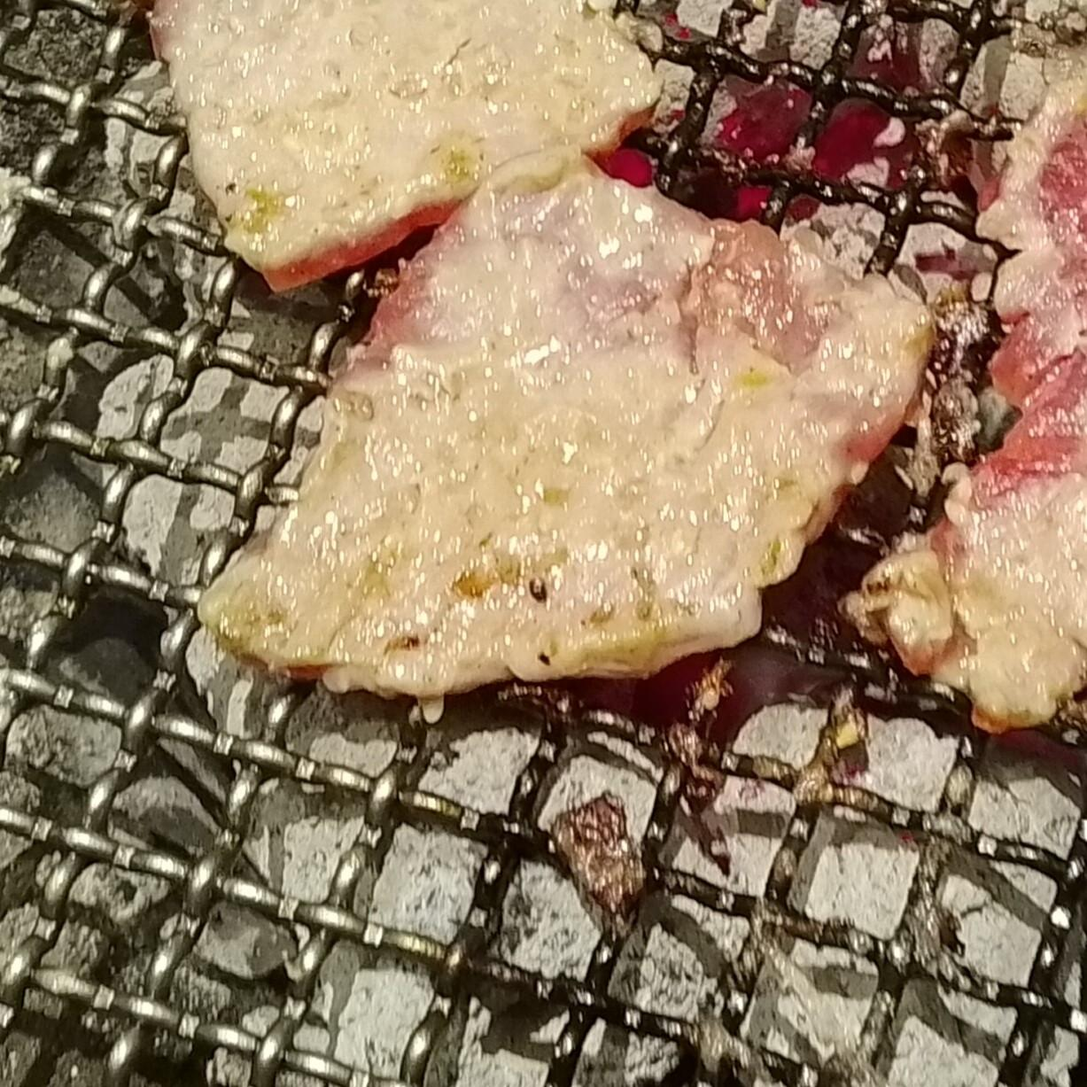Undercooked: (196, 149, 930, 703), (850, 106, 1086, 730), (161, 0, 656, 295)
